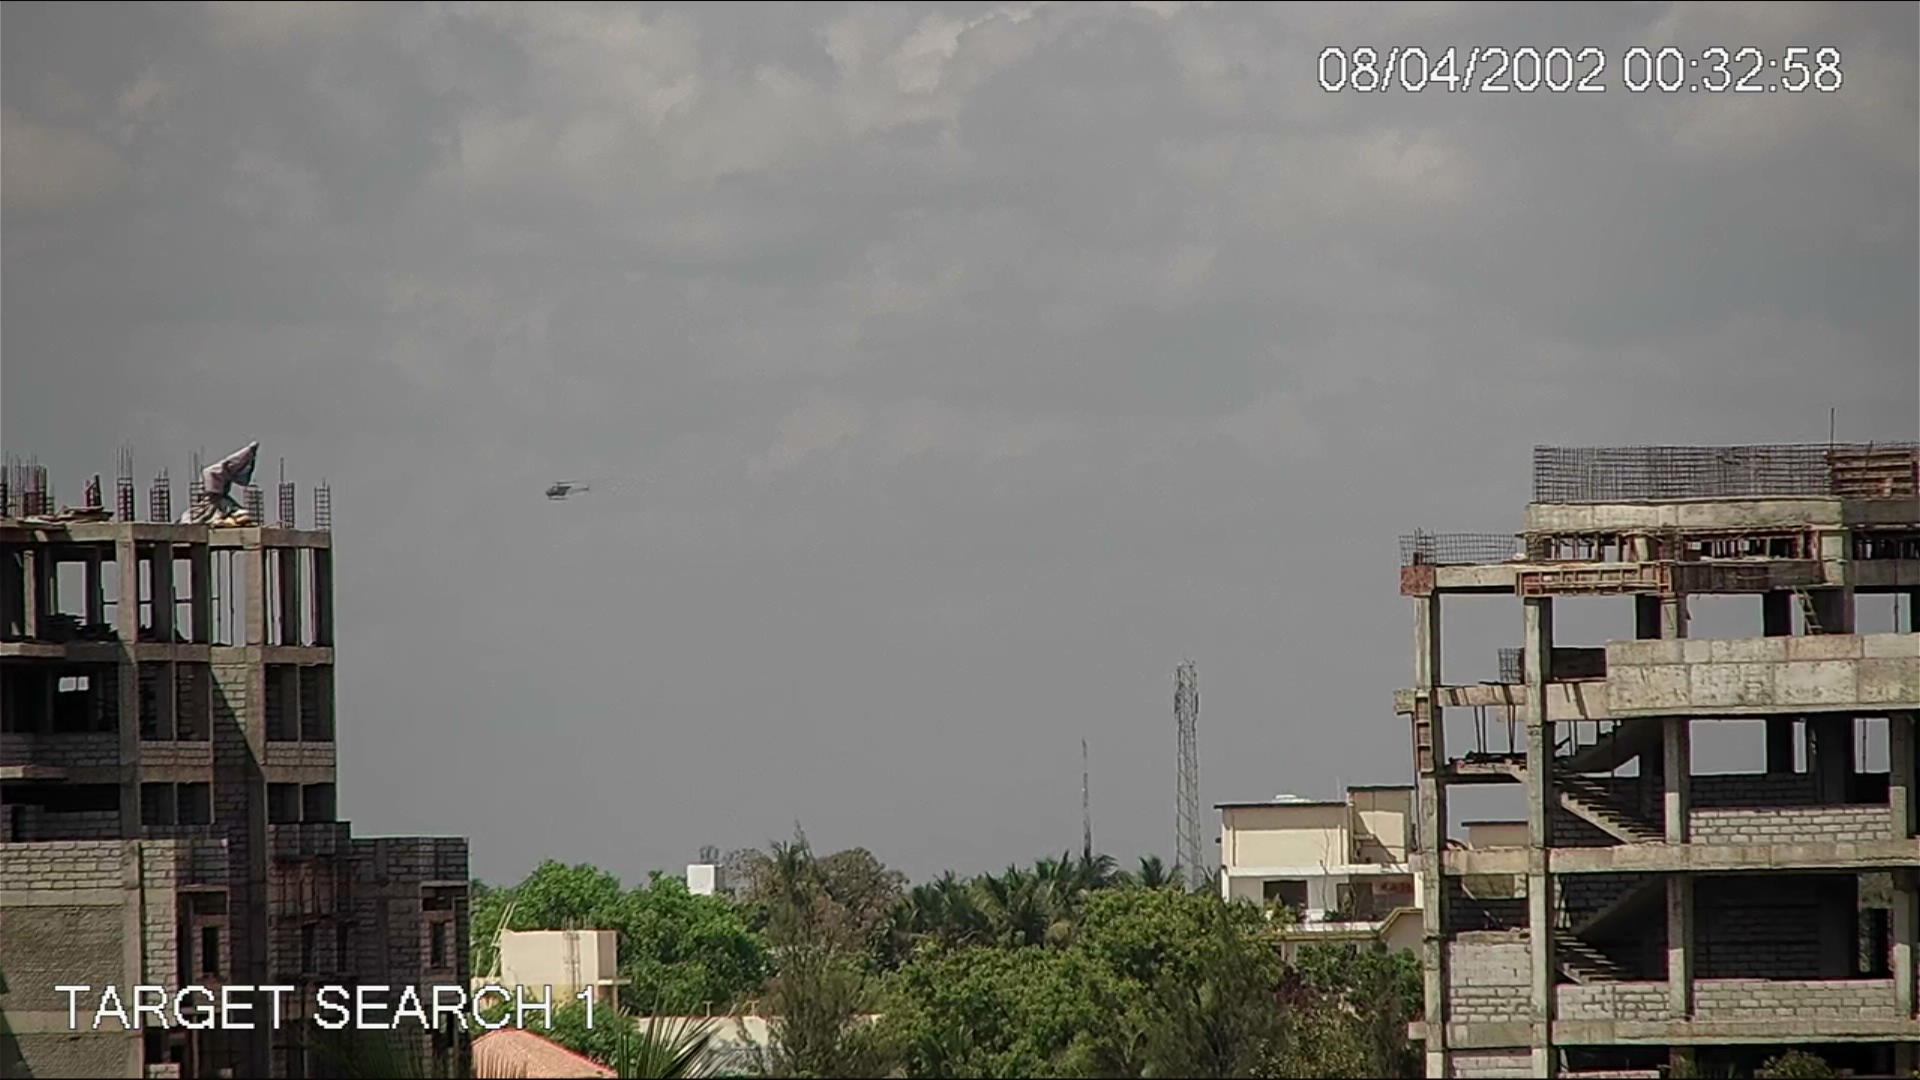SU_30: (537, 468, 597, 506)
